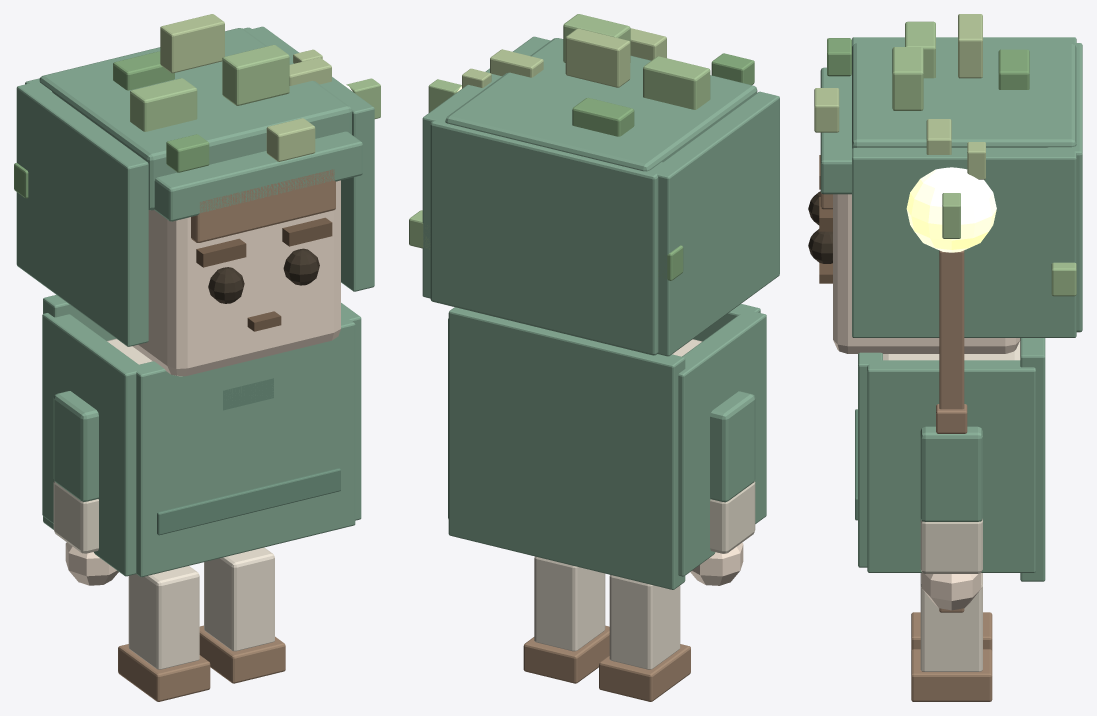
Rendered from druid_v3.glb.
3 views of the same model, side by side, from view 1: azimuth 30°, elevation 25°; view 2: azimuth 150°, elevation 25°; view 3: azimuth 270°, elevation 25° (orthographic).
Visible parts, largest first — view 1: Cloak_Front, Hood_SideL, Head_Face, Hood_Crown, Cloak_SideL, Hood_Brim, LegL_Shaft, LegR_Shaft, Hood_SideR, Hair_Front, ArmL_Sleeve, Cloak_Belt (+19 smaller); view 2: Cloak_Back, Hood_Back, Hood_SideL, Hood_Crown, Cloak_SideL, LegL_Shaft, LegR_Shaft, ArmL_Sleeve, Leaf_10, LegL_Sandal, Leaf_0, Hood_SideR (+10 smaller); view 3: Hood_SideR, Cloak_SideR, Hood_Crown, ArmR_Sleeve, Head_Face, Staff_Orb, LegR_Shaft, Staff_Shaft2, ArmR_Wrap, Cloak_Back, Hood_Brim, LegR_Sandal (+18 smaller).
Boxes of the visible parts, x1,y1,x2,y2 form: Cloak_Front: [132, 315, 355, 577]; Hood_SideL: [16, 83, 148, 346]; Head_Face: [132, 180, 340, 376]; Hood_Crown: [39, 28, 351, 210]; Cloak_SideL: [42, 313, 138, 576]; Hood_Brim: [154, 131, 362, 221]; LegL_Shaft: [128, 566, 199, 669]; LegR_Shaft: [204, 547, 274, 651]; Hood_SideR: [246, 26, 374, 291]; Hair_Front: [191, 169, 335, 242]; ArmL_Sleeve: [53, 391, 98, 501]; Cloak_Belt: [157, 468, 340, 535]; Cloak_Back: [448, 307, 685, 589]; Hood_Back: [430, 110, 669, 355]; Hood_SideL: [651, 91, 779, 356]; Hood_Crown: [445, 38, 757, 171]; Cloak_SideL: [678, 311, 766, 576]; LegL_Shaft: [609, 575, 680, 669]; LegR_Shaft: [534, 556, 605, 651]; ArmL_Sleeve: [710, 391, 755, 502]; Leaf_10: [565, 28, 630, 87]; LegL_Sandal: [599, 644, 690, 701]; Leaf_0: [643, 56, 710, 109]; Hood_SideR: [422, 36, 550, 298]; Hood_SideR: [852, 148, 1076, 337]; Cloak_SideR: [867, 360, 1035, 572]; Hood_Crown: [852, 43, 1076, 148]; ArmR_Sleeve: [920, 426, 982, 521]; Head_Face: [833, 194, 1020, 353]; Staff_Orb: [906, 167, 996, 252]; LegR_Shaft: [920, 573, 982, 671]; Staff_Shaft2: [939, 250, 964, 409]; ArmR_Wrap: [920, 519, 982, 573]; Cloak_Back: [1020, 338, 1045, 581]; Hood_Brim: [820, 67, 851, 194]; LegR_Sandal: [911, 649, 992, 701].
Bounding box in the file's own units: 0.575 × 1.14 × 0.44.
